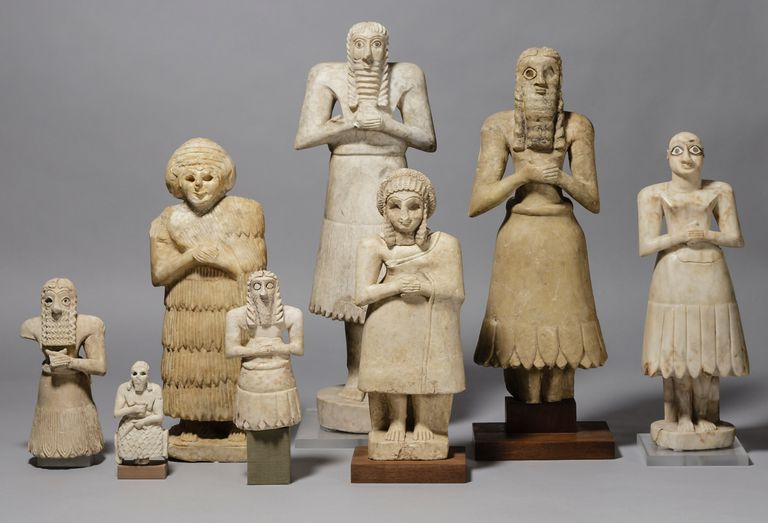person-like: (288, 17, 441, 406), (462, 40, 613, 429), (142, 133, 271, 466), (631, 123, 753, 452), (345, 162, 469, 462), (17, 272, 108, 470), (217, 263, 306, 436), (108, 355, 172, 468)
